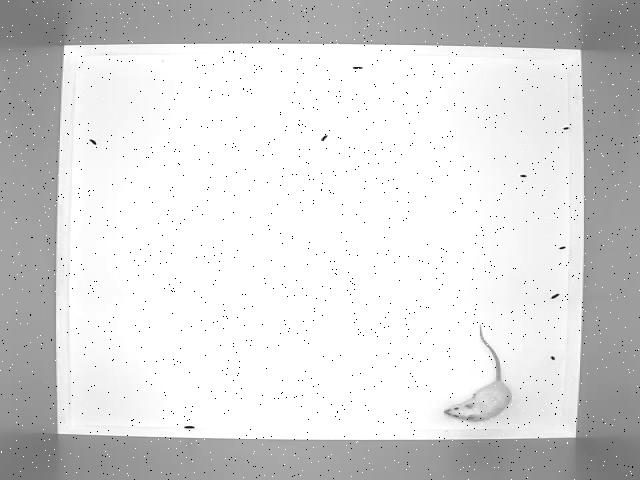Tikus: (442, 324, 518, 426)
